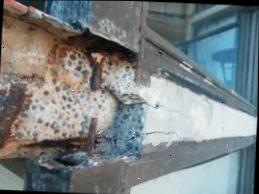exposed_rebar: (88, 55, 102, 91), (88, 117, 97, 147)
spalling: (0, 45, 146, 170)
